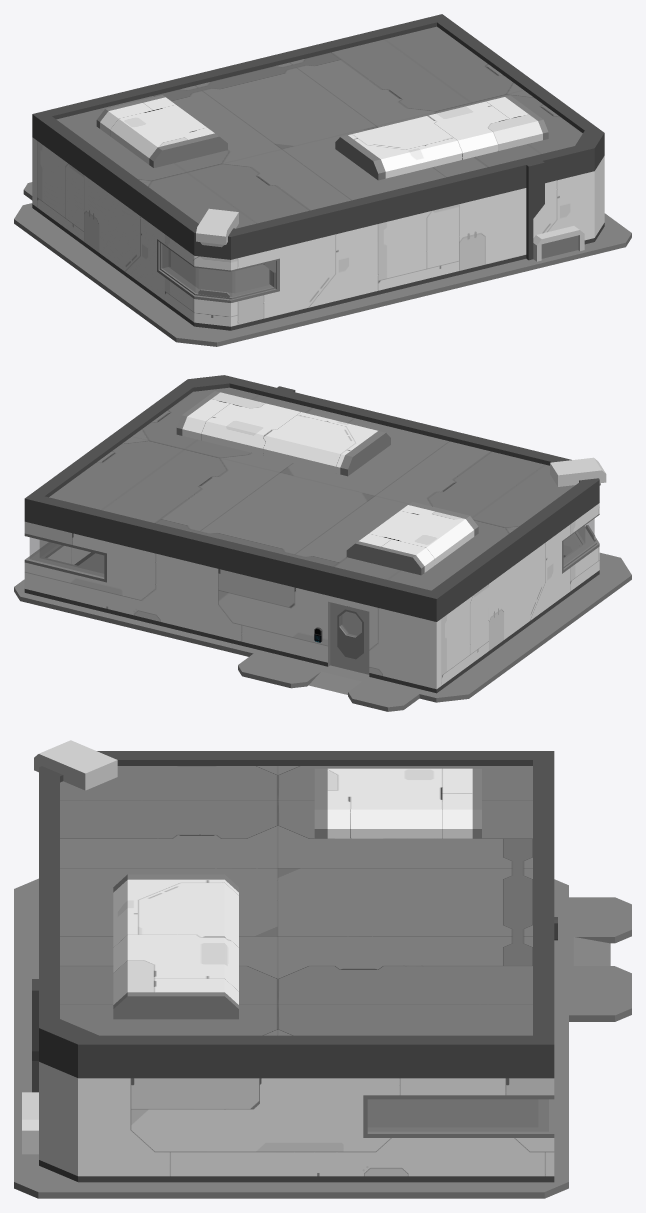
File: SM_Building_5.fbx
3 views of the same model, one above another, from view 1: azimuth 30°, elevation 25°; view 2: azimuth 150°, elevation 25°; view 3: azimuth 270°, elevation 25° (orthographic). The views are drawn at different scales.
Visible parts, largest first — view 1: SM_Building_5, SM_Building_5_Roof, SM_Building_5_Roof_Extras, SM_Building_5_Floor; view 2: SM_Building_5, SM_Building_5_Roof, SM_Building_5_Roof_Extras, SM_Building_5_Floor, SM_Building_5_Door; view 3: SM_Building_5_Roof, SM_Building_5, SM_Building_5_Floor, SM_Building_5_Roof_Extras.
Boxes of the visible parts, x1,y1,x2,y2 form: SM_Building_5: (32,14,604,330); SM_Building_5_Roof: (56,26,582,247); SM_Building_5_Roof_Extras: (96,95,548,180); SM_Building_5_Floor: (14,182,631,346); SM_Building_5: (24,375,599,693); SM_Building_5_Roof: (49,387,606,590); SM_Building_5_Roof_Extras: (176,391,478,575); SM_Building_5_Floor: (14,552,631,711); SM_Building_5_Door: (330,602,369,674); SM_Building_5_Roof: (34,740,532,1035); SM_Building_5: (22,751,557,1182); SM_Building_5_Floor: (14,878,631,1198); SM_Building_5_Roof_Extras: (113,768,481,1019).
Bounding box in the file's own units: 1435 × 343 × 1165.
